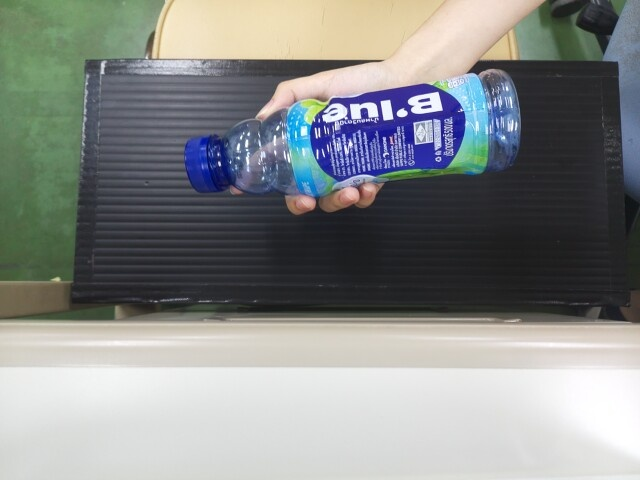plastic_bottle: (182, 83, 524, 189)
